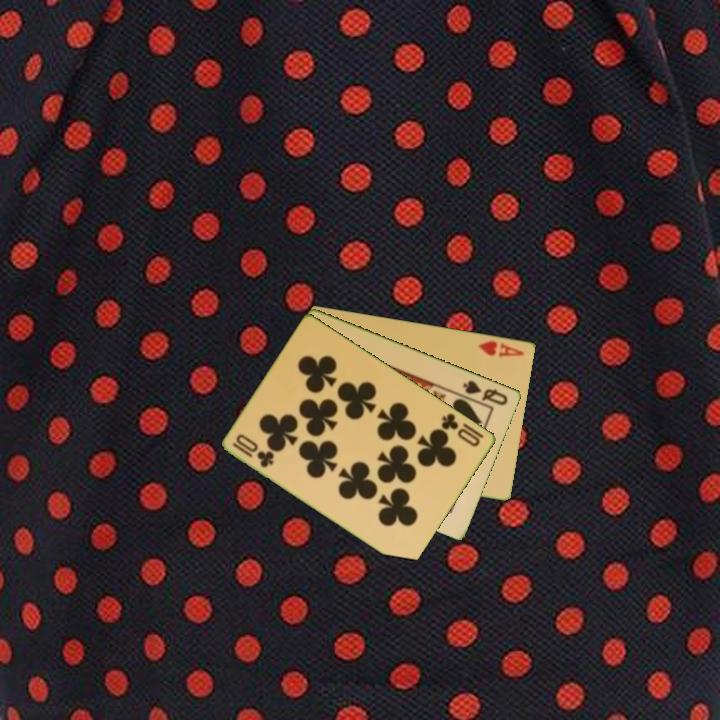10c: (229, 430, 277, 471), (438, 409, 483, 450)
Ah: (475, 337, 527, 360)
Qs: (459, 376, 511, 408)
